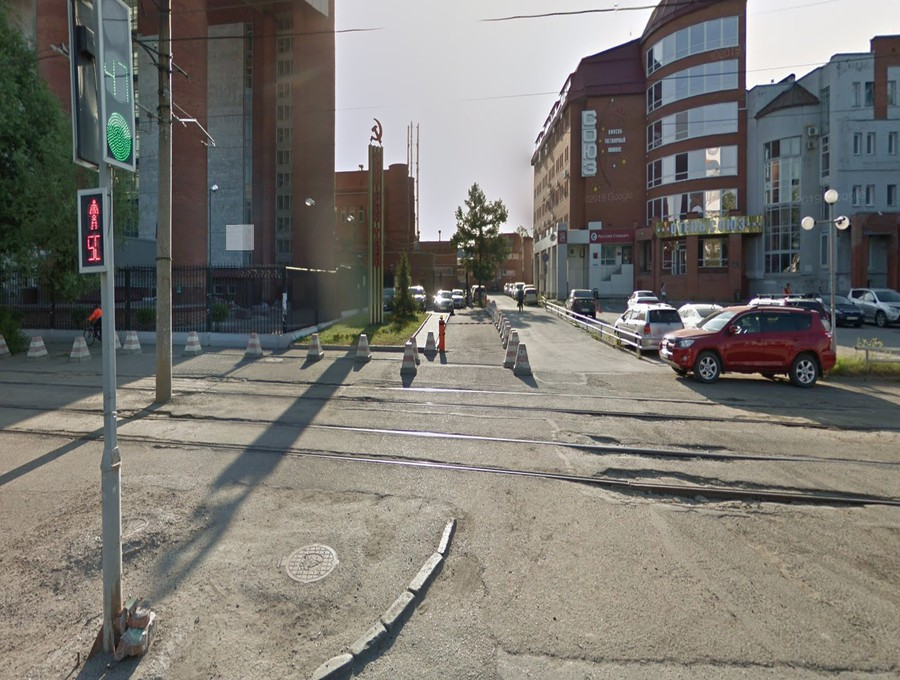Traffic Light-red: (73, 189, 115, 275)
